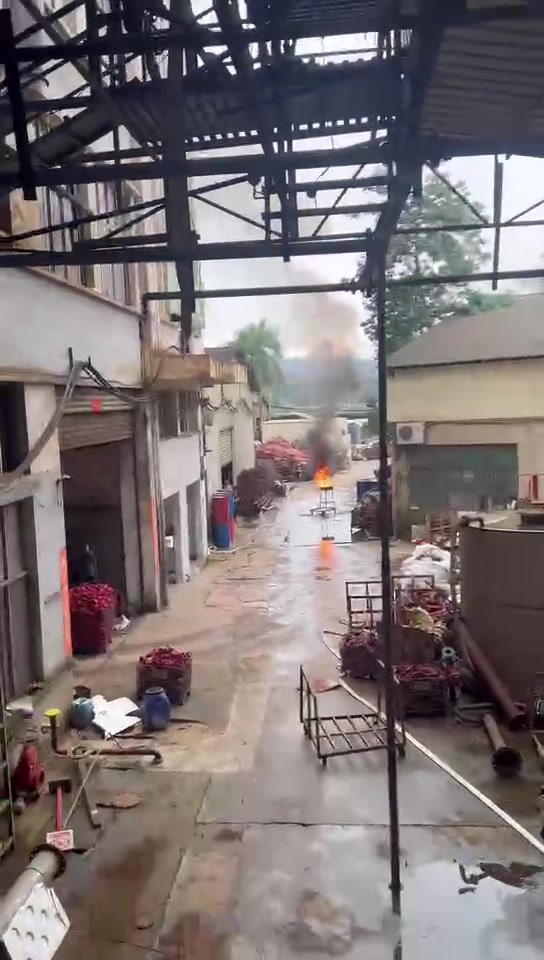fire: (315, 463, 332, 487)
